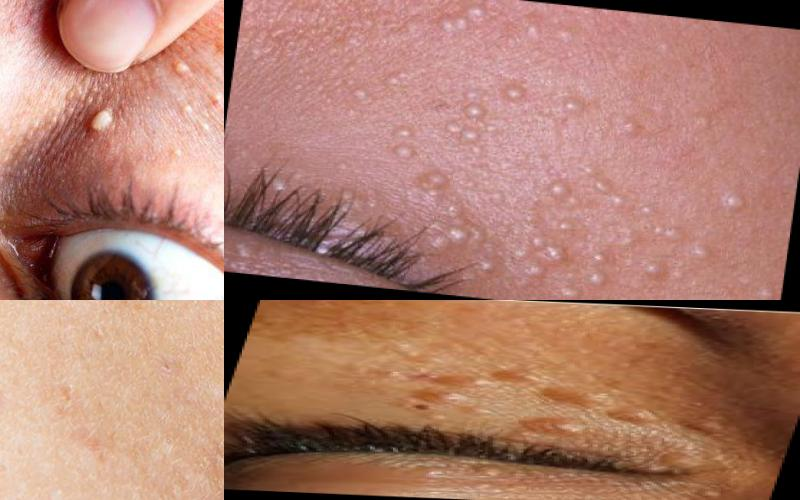flat_wart: (203, 55, 225, 110)
milium: (391, 174, 504, 280), (515, 232, 616, 301), (374, 118, 435, 174), (76, 85, 131, 147), (427, 1, 500, 47), (367, 56, 432, 106), (441, 96, 491, 154), (410, 161, 469, 209), (527, 174, 589, 217), (632, 200, 686, 249), (586, 169, 636, 214), (159, 48, 206, 91), (606, 109, 656, 146), (515, 13, 560, 49), (495, 76, 543, 109), (636, 254, 677, 291), (556, 85, 600, 119), (546, 209, 591, 240), (163, 139, 202, 172), (682, 235, 721, 267), (260, 166, 296, 200), (714, 185, 750, 218), (196, 110, 225, 149), (514, 206, 548, 237), (349, 79, 380, 106), (352, 1, 402, 11)
syringoma: (370, 365, 774, 474)
